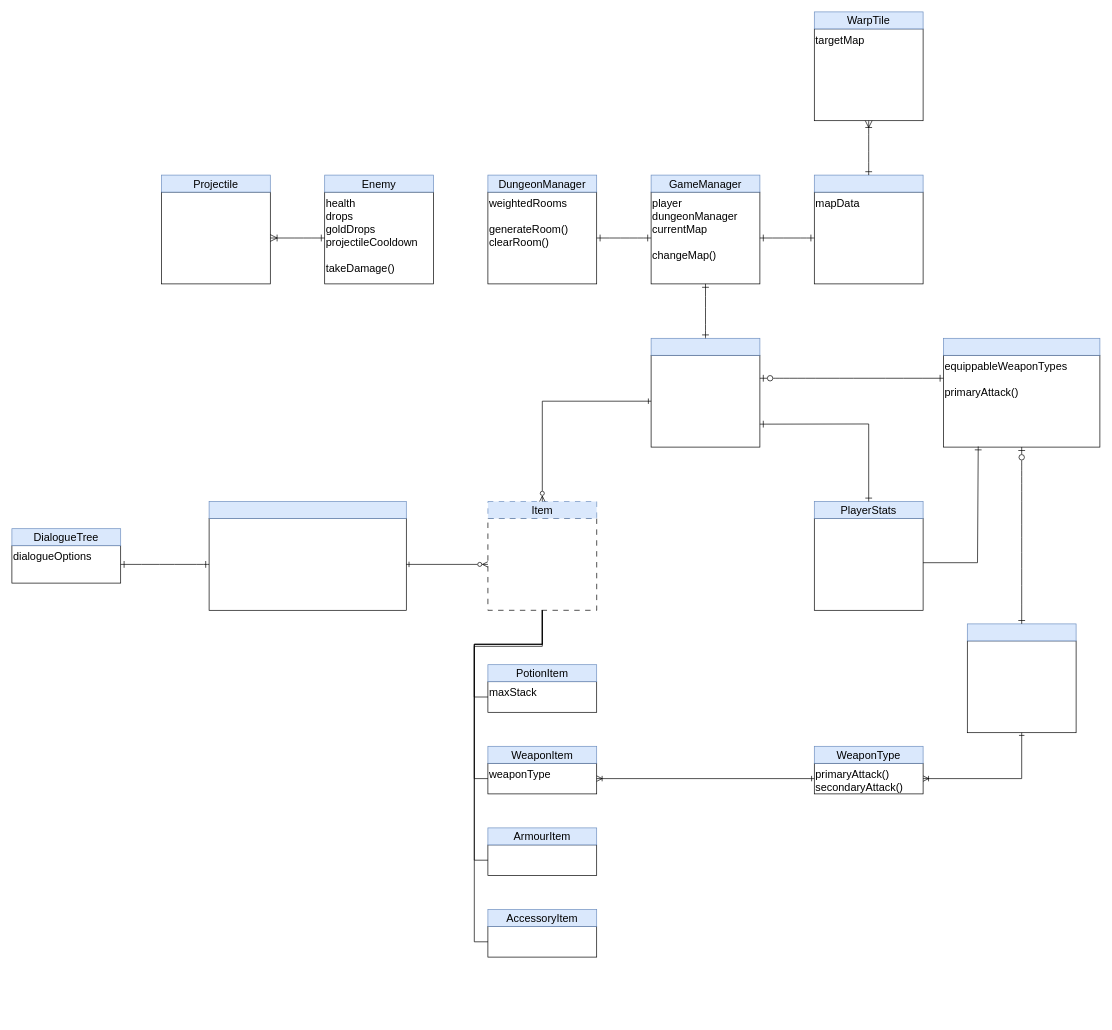
Some shapes in this 1112 by 1030 pixel diagram are drawn without their labels. The shapes that lost their labels are listed below. From the top down, each one's centre as x and y in pixels, then its label:
point (868, 183): Map
point (215, 237): damage speed doesRicochet doesCollide
point (705, 346): Player
point (1021, 346): Class
point (705, 401): health goldCount inventory takeDamage() heal()
point (307, 509): NPC
point (307, 564): inventory dialogueTree circleCollider -- detection for player interact()
point (542, 564): name goldWorth use()
point (868, 564): weaponMasteries walkspeed maxHealth
point (1021, 632): AttackData
point (1021, 686): hitboxSize baseDamage animation handleAttack()
